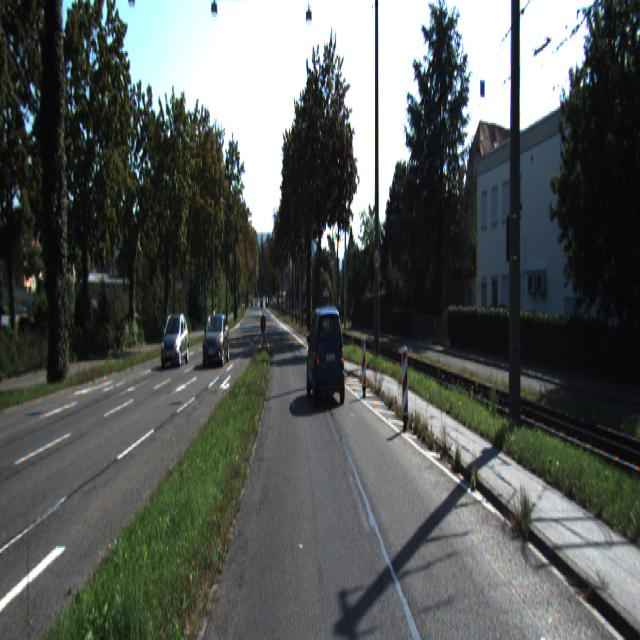Car: (306, 304, 346, 409), (160, 311, 189, 368), (202, 311, 229, 368)
